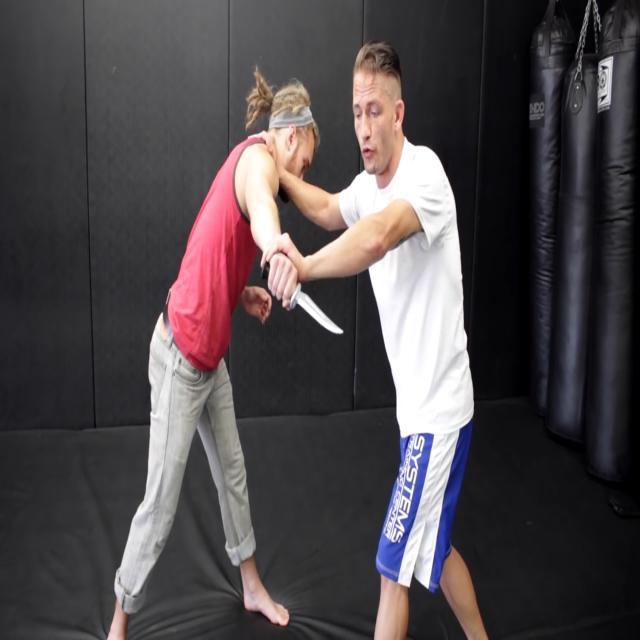knife: (295, 273, 347, 347)
